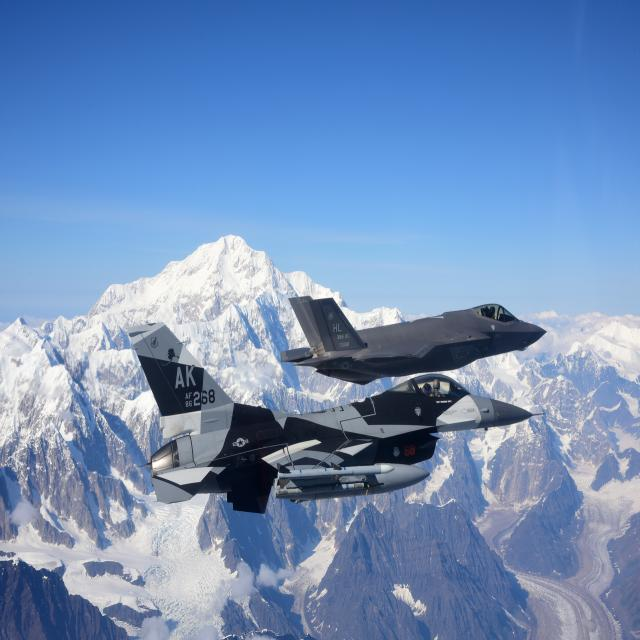MIL_Plane: (124, 321, 546, 514), (282, 295, 546, 386)
